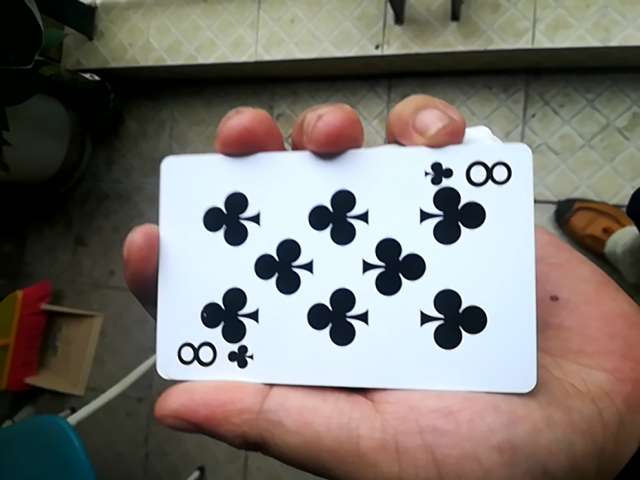mh 8: (130, 146, 540, 401)
